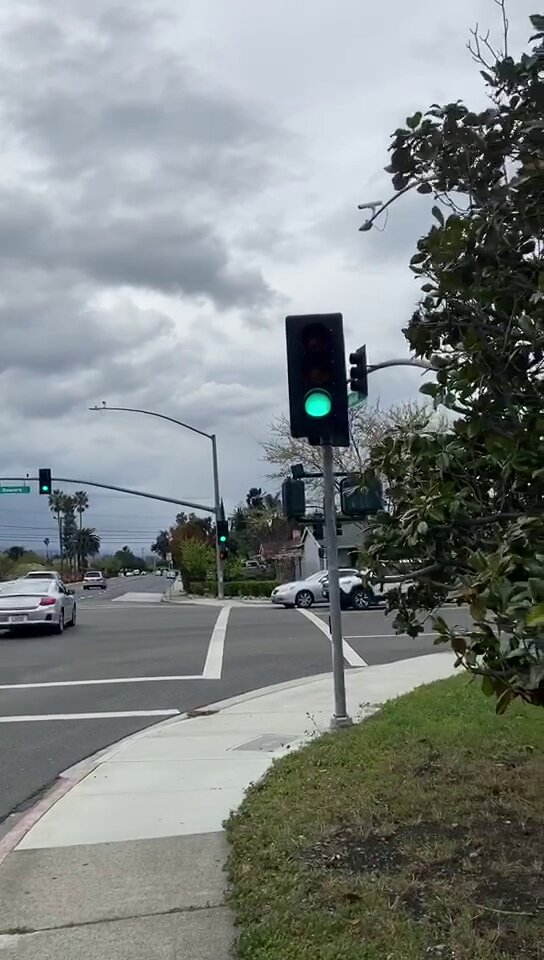green_light: (289, 316, 343, 434), (40, 469, 51, 493), (218, 522, 228, 545)
